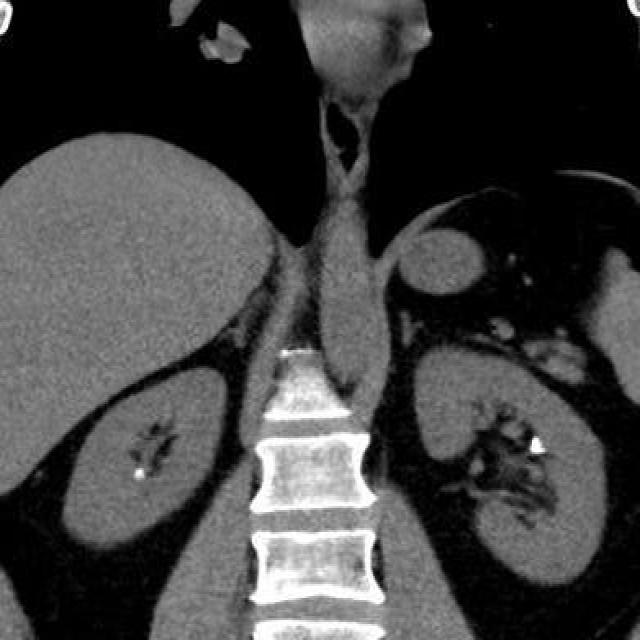Tas_Var: (529, 434, 548, 456), (131, 462, 147, 482)
